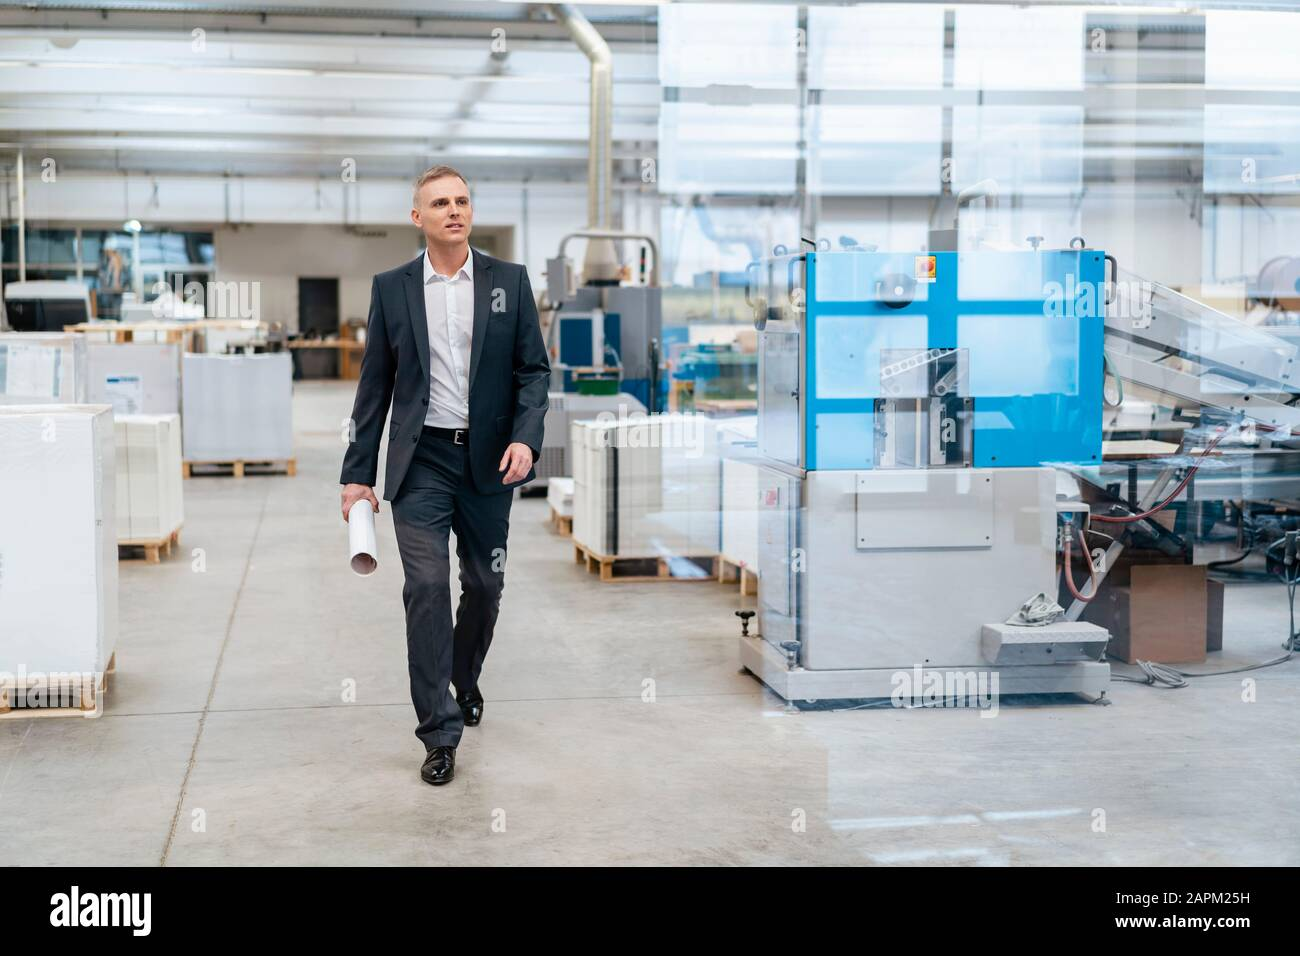person: (338, 169, 548, 784)
